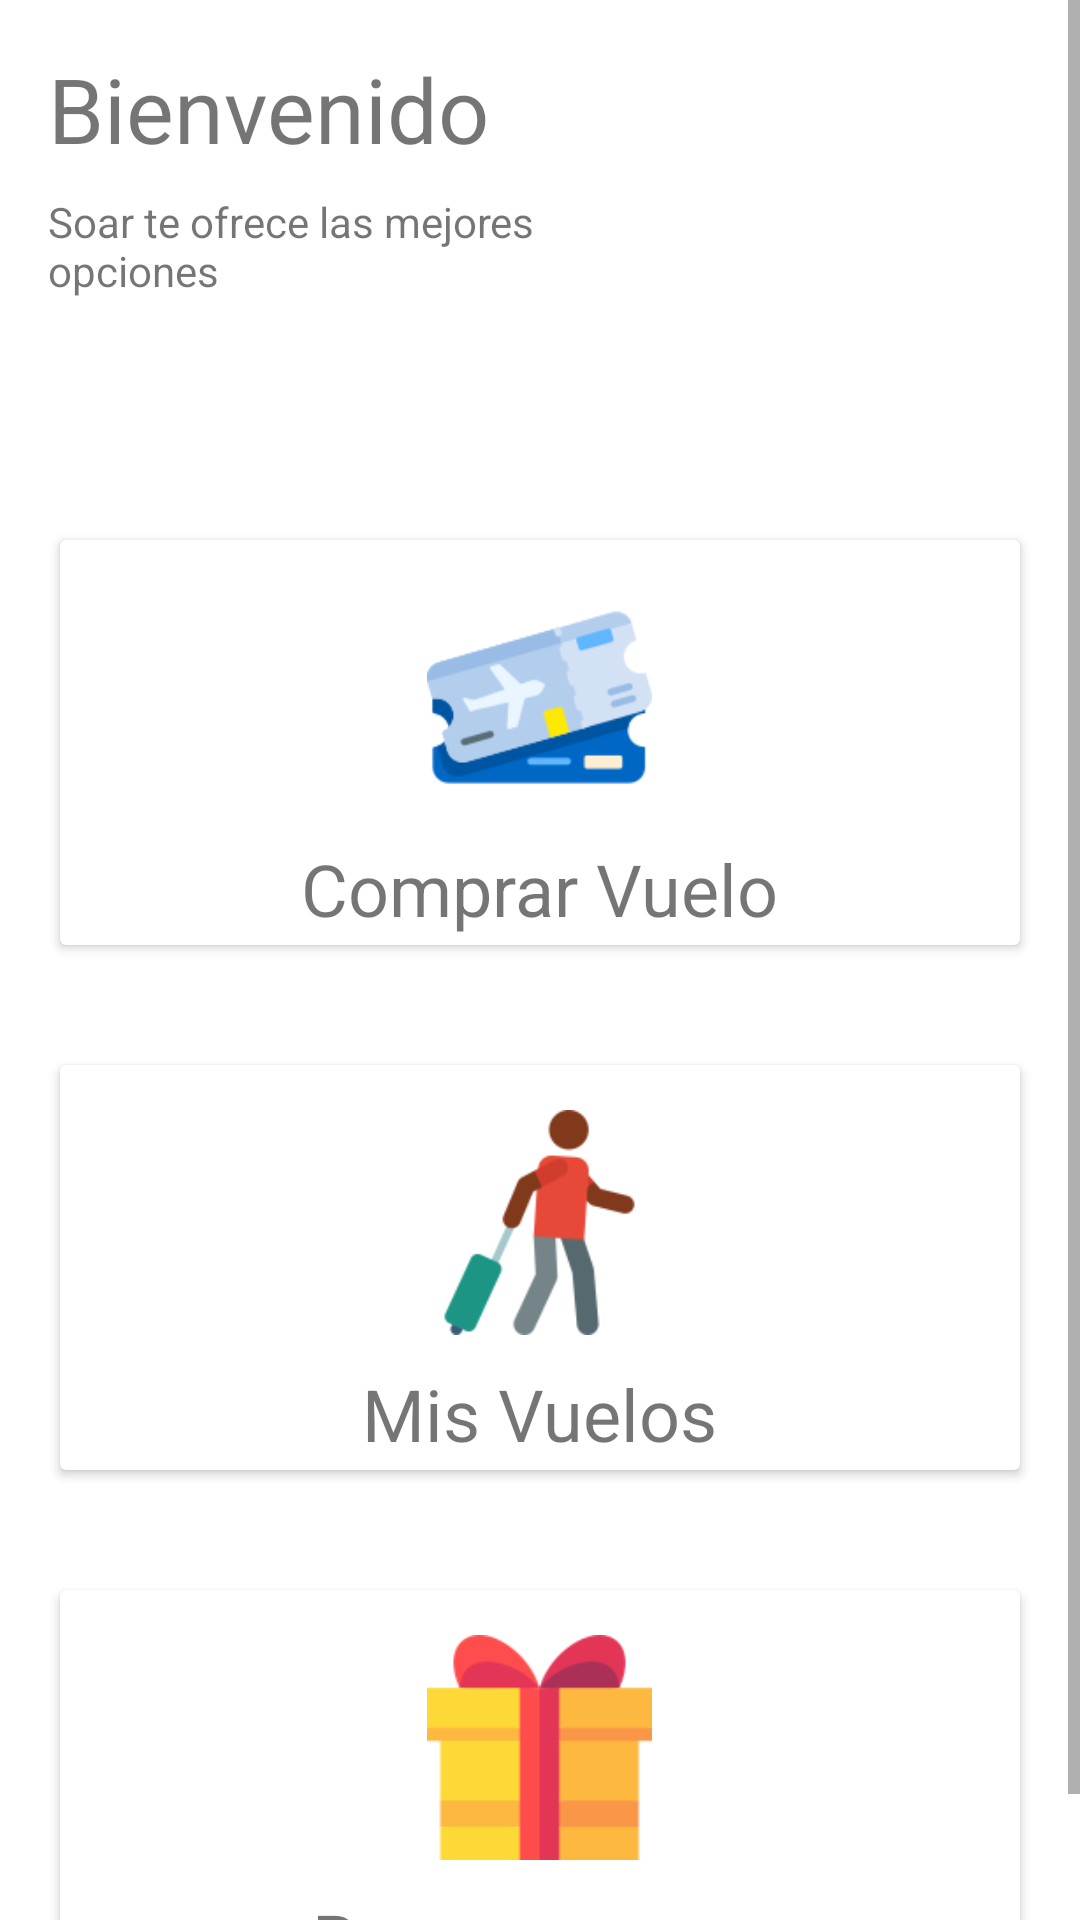

Icon click points for this 1080*1920 phone screenshot, format point (x, y):
home recompensa: point (539, 1747)
home salidas: point (539, 1222)
home viajes: point (539, 697)
